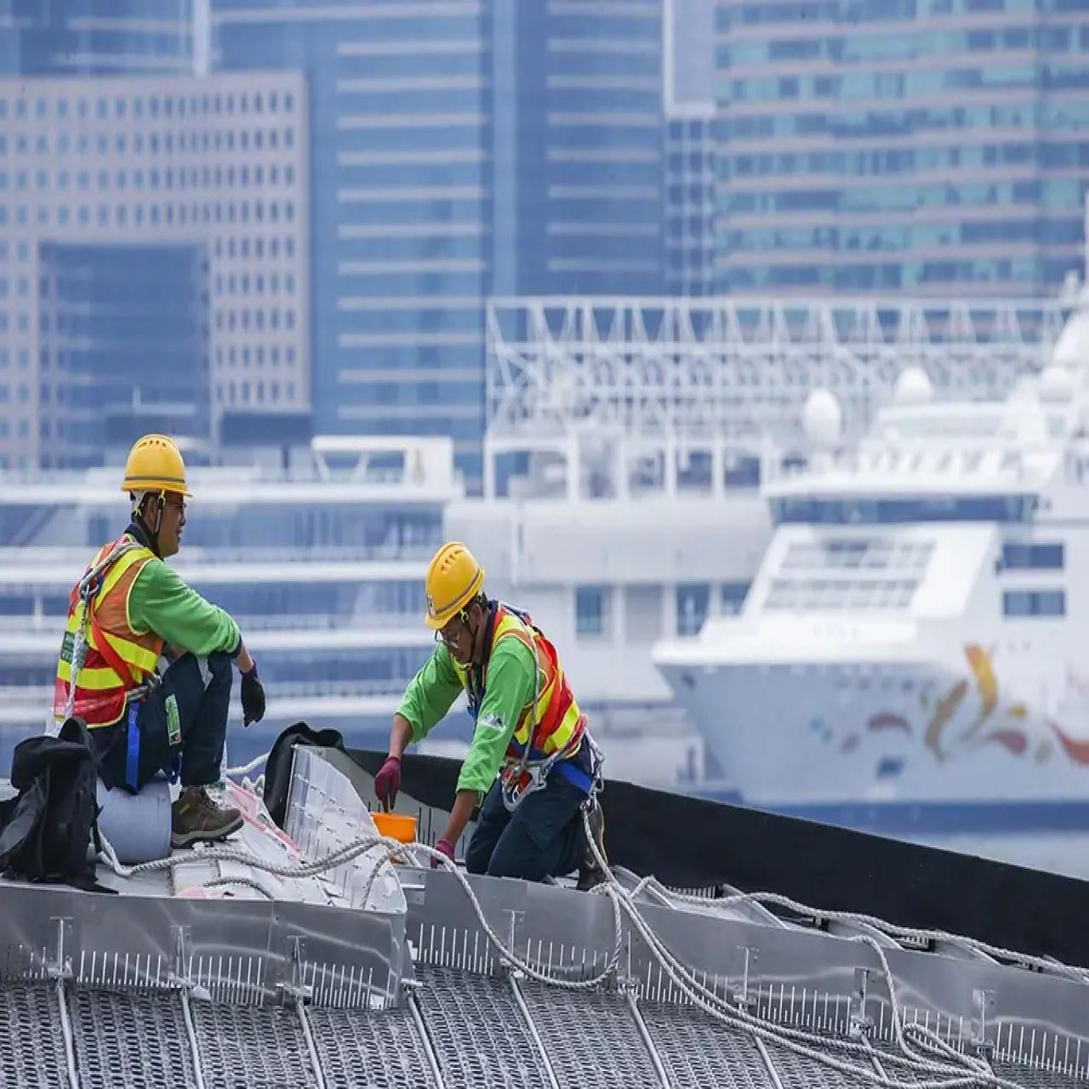Person: (33, 413, 275, 853), (372, 537, 620, 899)
Safety_Vest: (49, 529, 176, 736), (449, 602, 589, 773)
